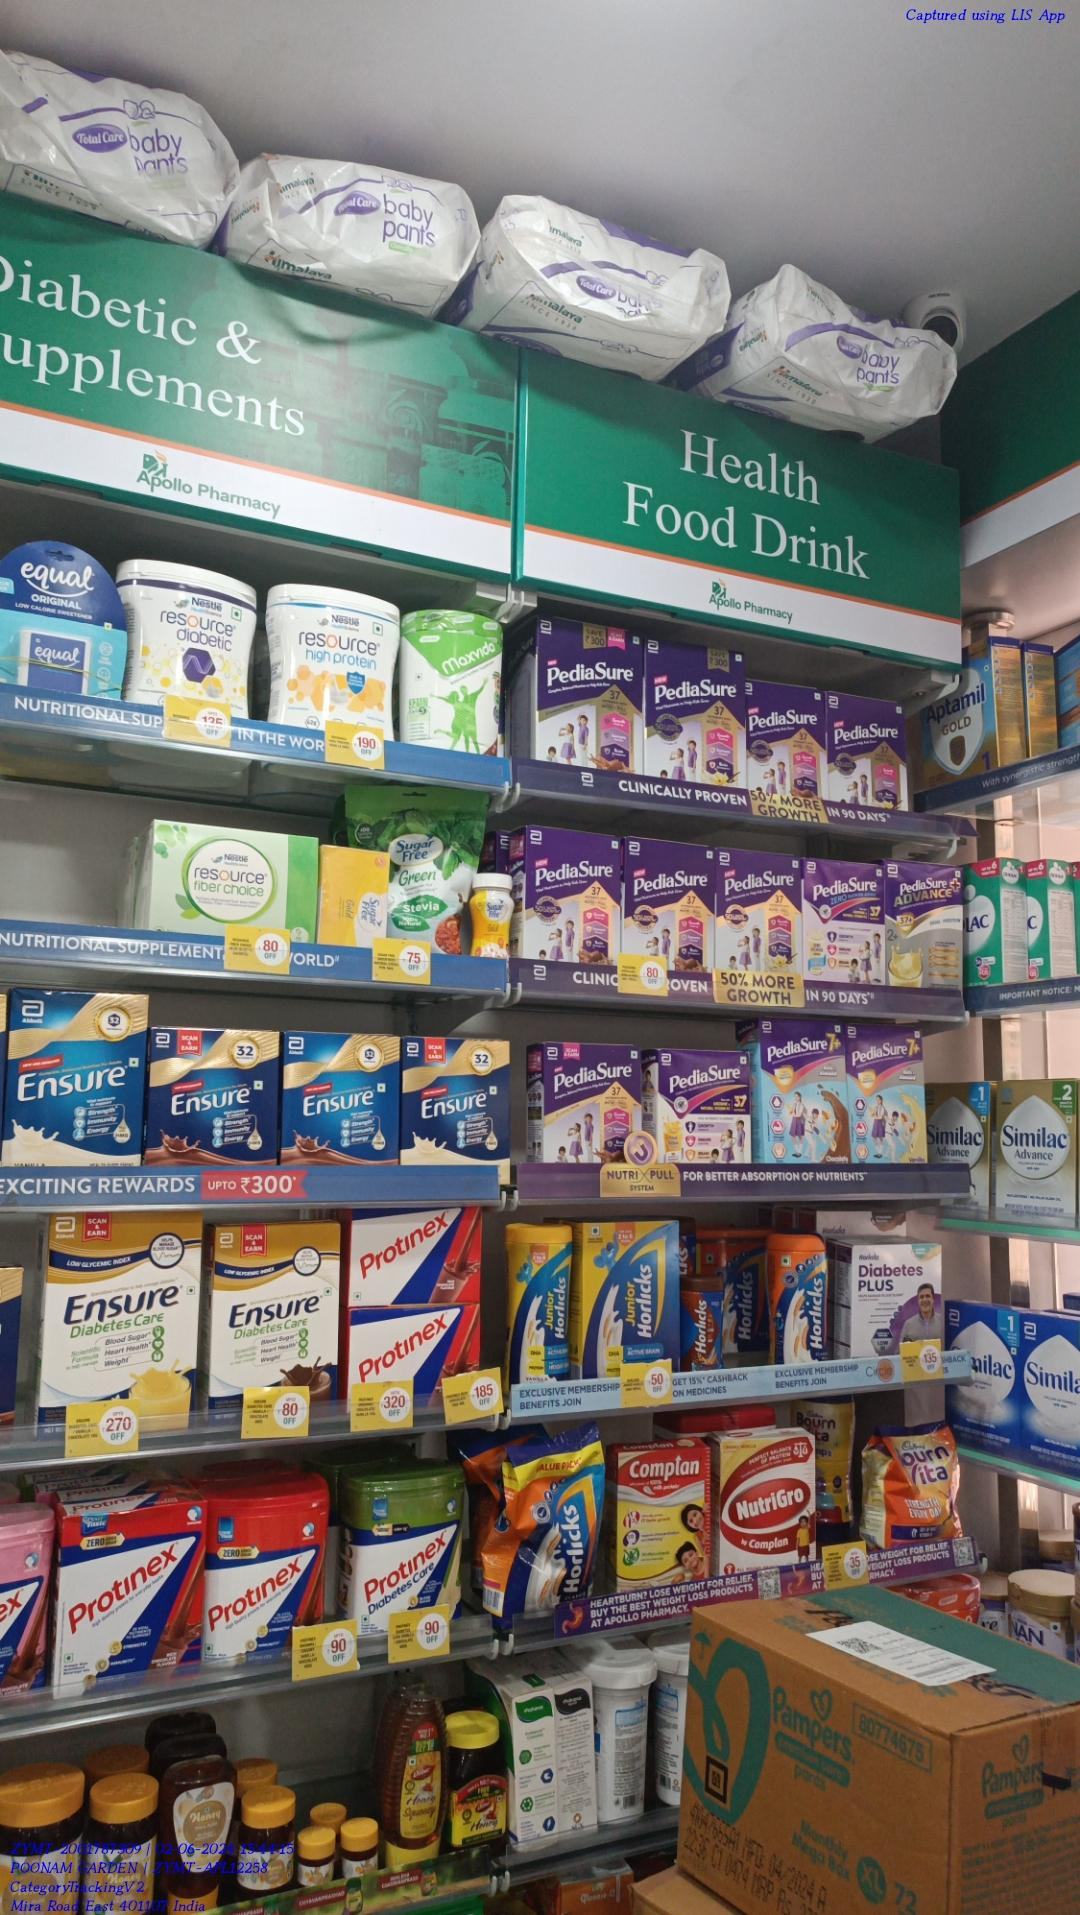HORLICK_CLASSIC_MALT_500_G_JAR: (768, 1231, 826, 1364)
PEDIASURE_7_PLUS_CHOCOLATE_400_G_PACK: (764, 1018, 846, 1165)
PEDIASURE_CHOCOLATE_500_G_PACK: (537, 619, 641, 775), (522, 823, 620, 967), (627, 836, 714, 976), (541, 1043, 627, 1168), (747, 680, 825, 800)
PEDIASURE_VANILLA_500_G_PACK: (645, 639, 745, 789), (718, 846, 801, 977), (826, 692, 909, 808)
PROTINEX_CHOCOLATE_400_G_JAR: (204, 1484, 324, 1635)
